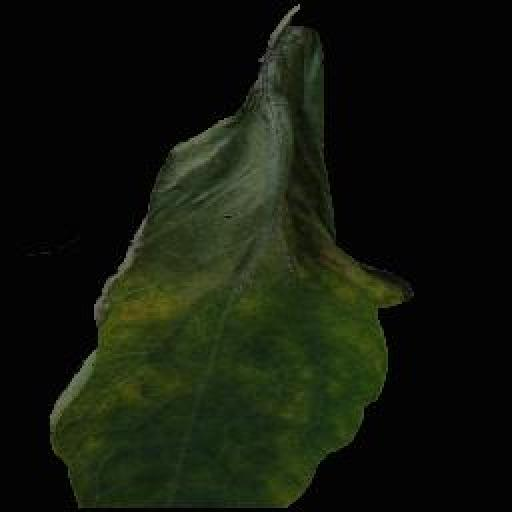Late Blight: (48, 0, 411, 512)
